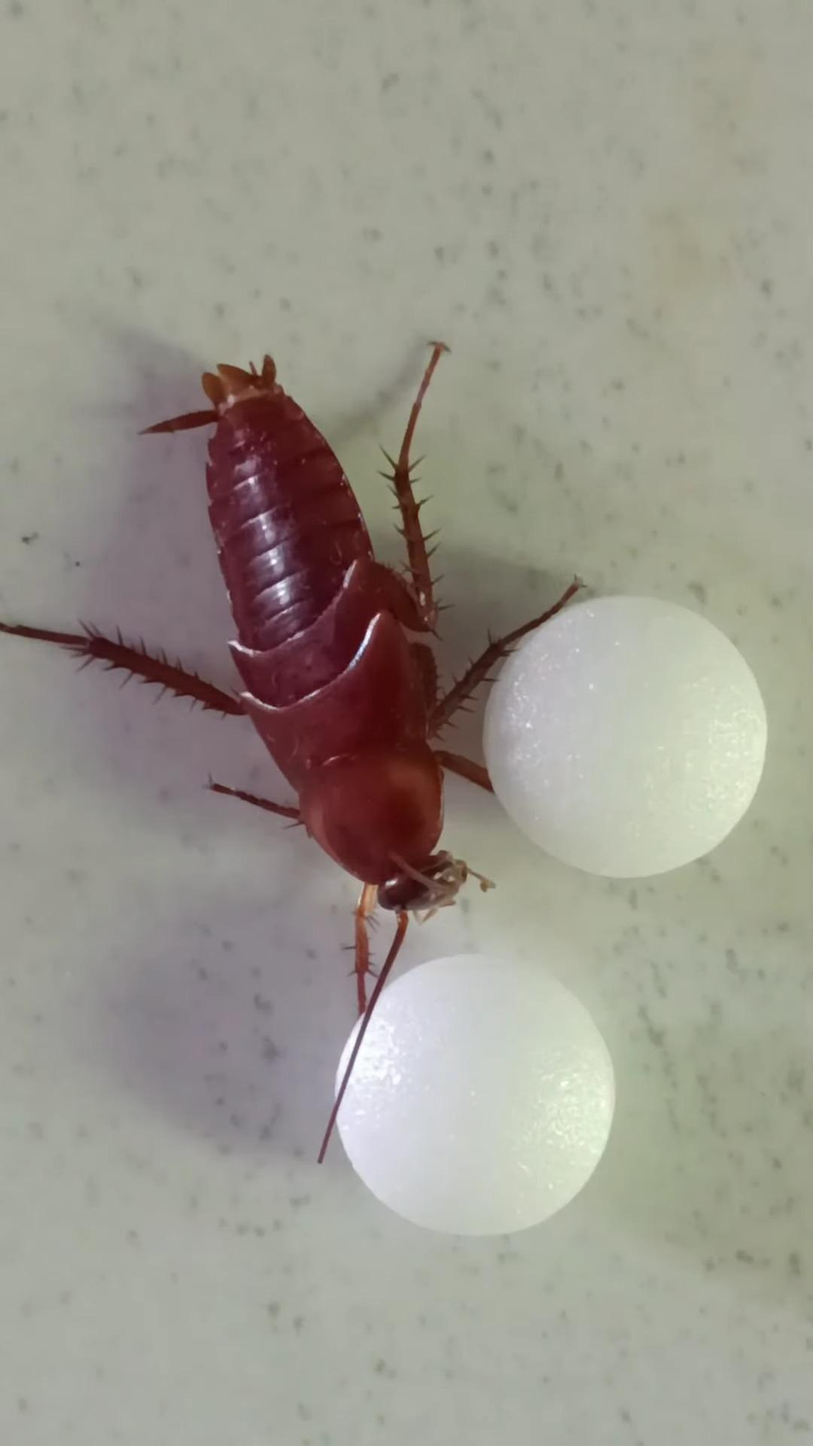cockroach: (0, 329, 478, 931)
